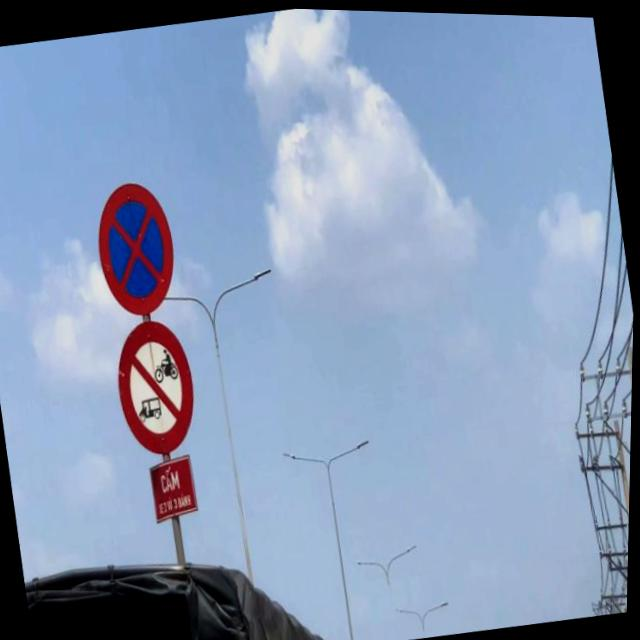Cam dung xe va do xe: (89, 176, 185, 321)
